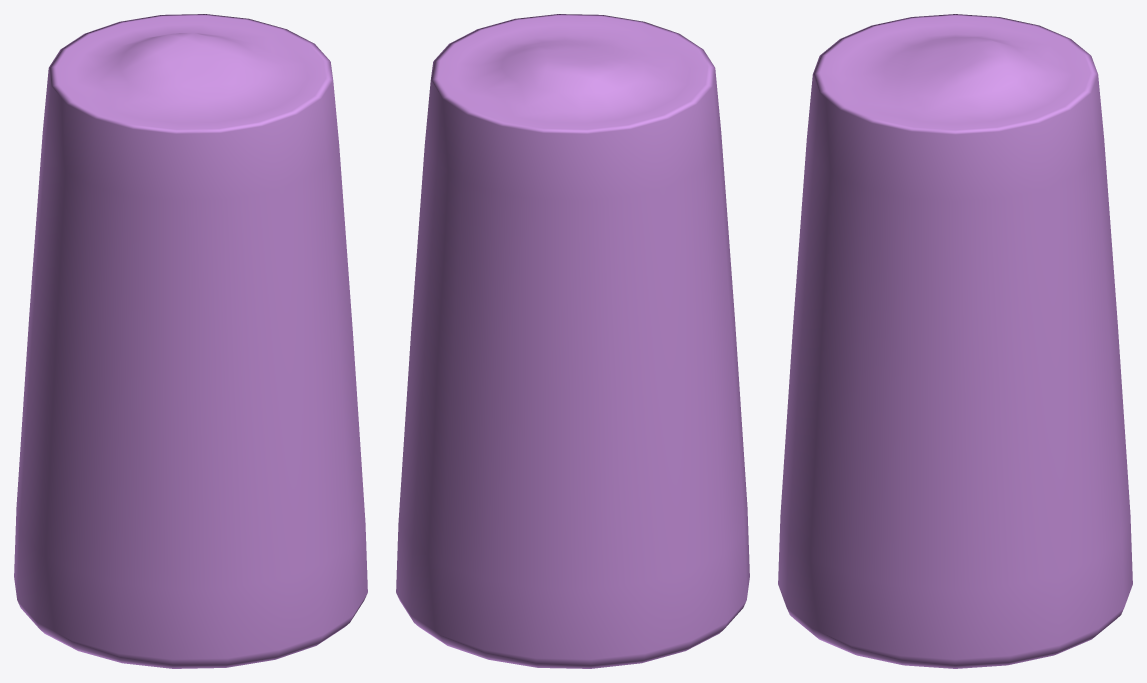
File: uploads_files_1923420_Salt+Shakers_Salt.FBX
3 views of the same model, side by side, from view 1: azimuth 30°, elevation 25°; view 2: azimuth 150°, elevation 25°; view 3: azimuth 270°, elevation 25° (orthographic).
Parts seen in each view (by area): view 1: uploads_files_1923420_Salt+Shakers_Salt; view 2: uploads_files_1923420_Salt+Shakers_Salt; view 3: uploads_files_1923420_Salt+Shakers_Salt.
Boxes of the visible parts, x1=… form: uploads_files_1923420_Salt+Shakers_Salt: x1=14, y1=14, x2=367, y2=668; uploads_files_1923420_Salt+Shakers_Salt: x1=396, y1=14, x2=749, y2=668; uploads_files_1923420_Salt+Shakers_Salt: x1=778, y1=14, x2=1132, y2=668.
Size of what is drawn, in the model's own units: 1.27 by 1.27 by 2.17.
